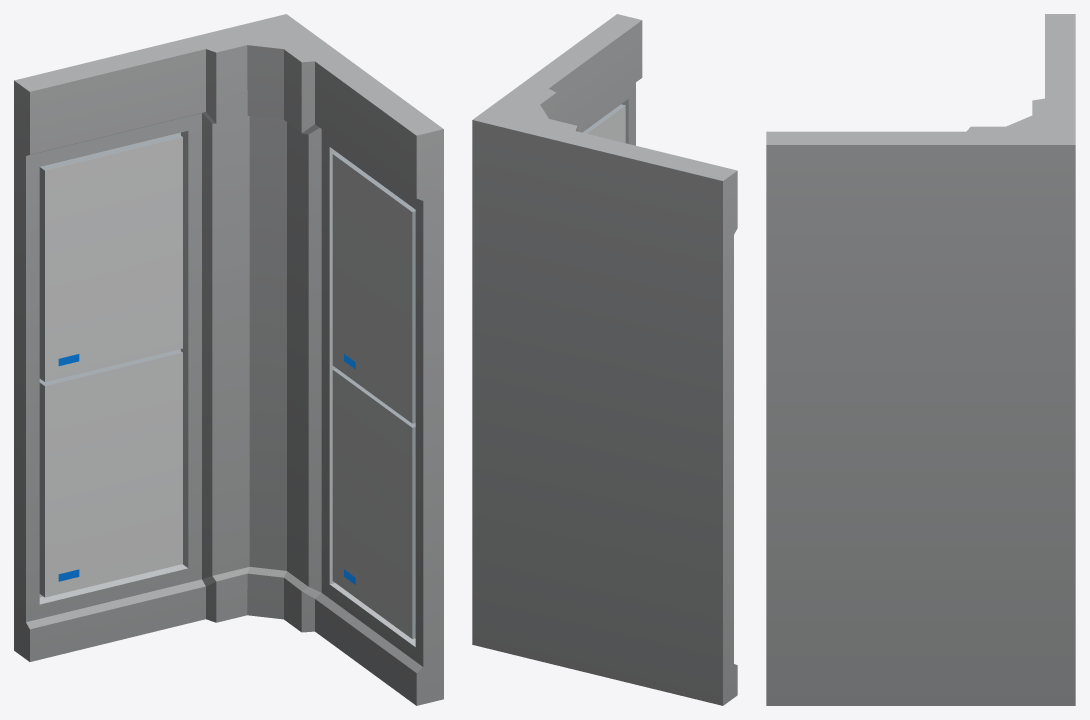
File: Wall_type_A_013.glb
3 renders of one model, left to right at view 1: azimuth 30°, elevation 25°; view 2: azimuth 150°, elevation 25°; view 3: azimuth 270°, elevation 25°, orthographic. The views are drawn at different scales.
Parts seen in each view (by area): view 1: Wall_type_A_013; view 2: Wall_type_A_013; view 3: Wall_type_A_013.
Boxes of the visible parts, <box> form: Wall_type_A_013: <box>14,14,443,705</box>; Wall_type_A_013: <box>472,14,737,705</box>; Wall_type_A_013: <box>766,14,1075,705</box>.
Bounding box in the file's own units: 2 × 4 × 2.
2 materials, 2 textured.
